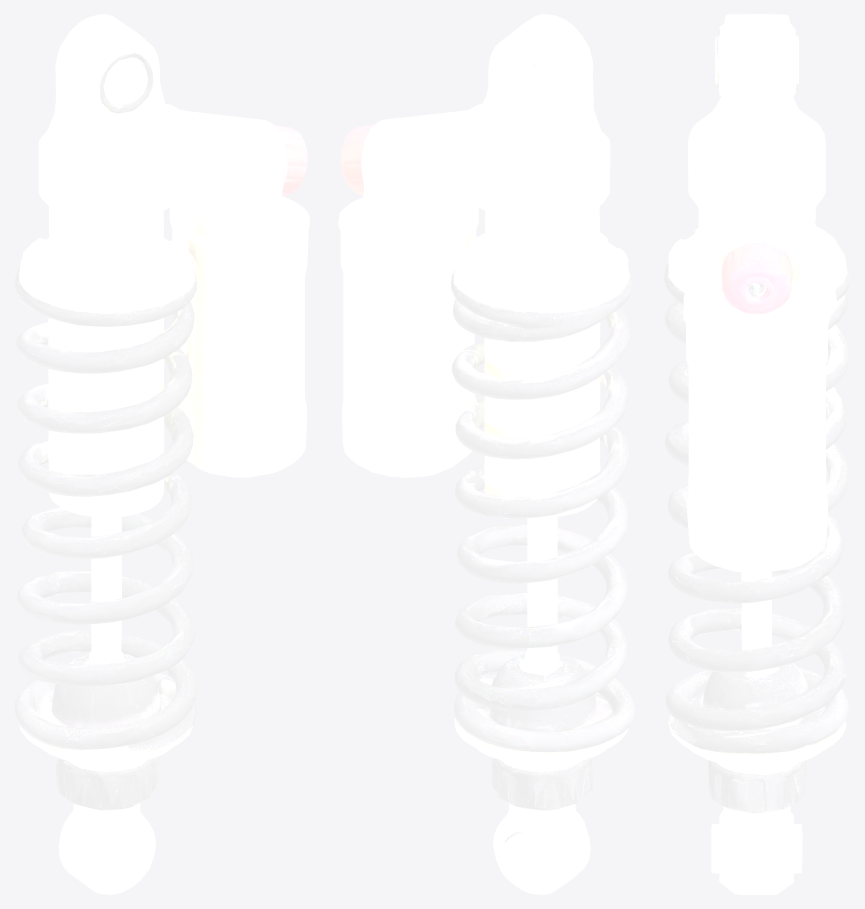
The model's file is shock.glb.
3 views of the same model, side by side, from view 1: azimuth 30°, elevation 25°; view 2: azimuth 150°, elevation 25°; view 3: azimuth 270°, elevation 25° (orthographic).
Parts seen in each view (by area): view 1: Mesh_0; view 2: Mesh_0; view 3: Mesh_0.
Part boxes in pixels (<box>): Mesh_0: <box>14,14,309,894</box>; Mesh_0: <box>338,14,635,894</box>; Mesh_0: <box>664,14,850,894</box>.
Size of the model in its own units: 0.6369 by 1.9 by 0.3676.
Materials: 1 (1 with a texture image).
